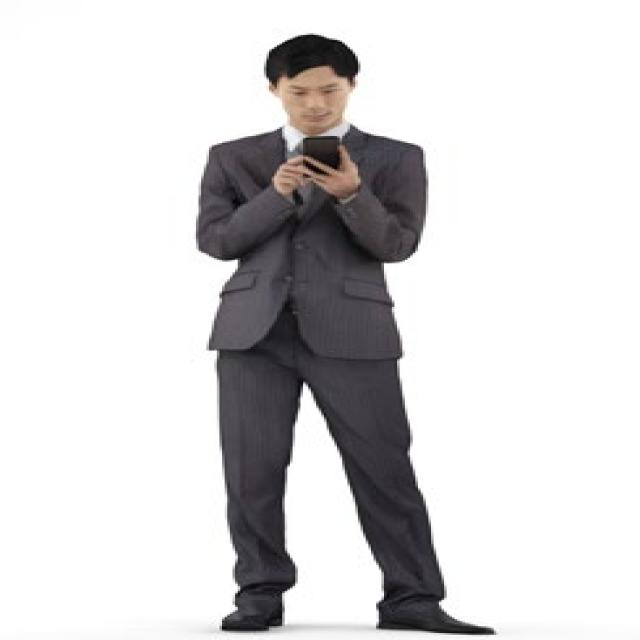standing: (189, 32, 508, 640)
